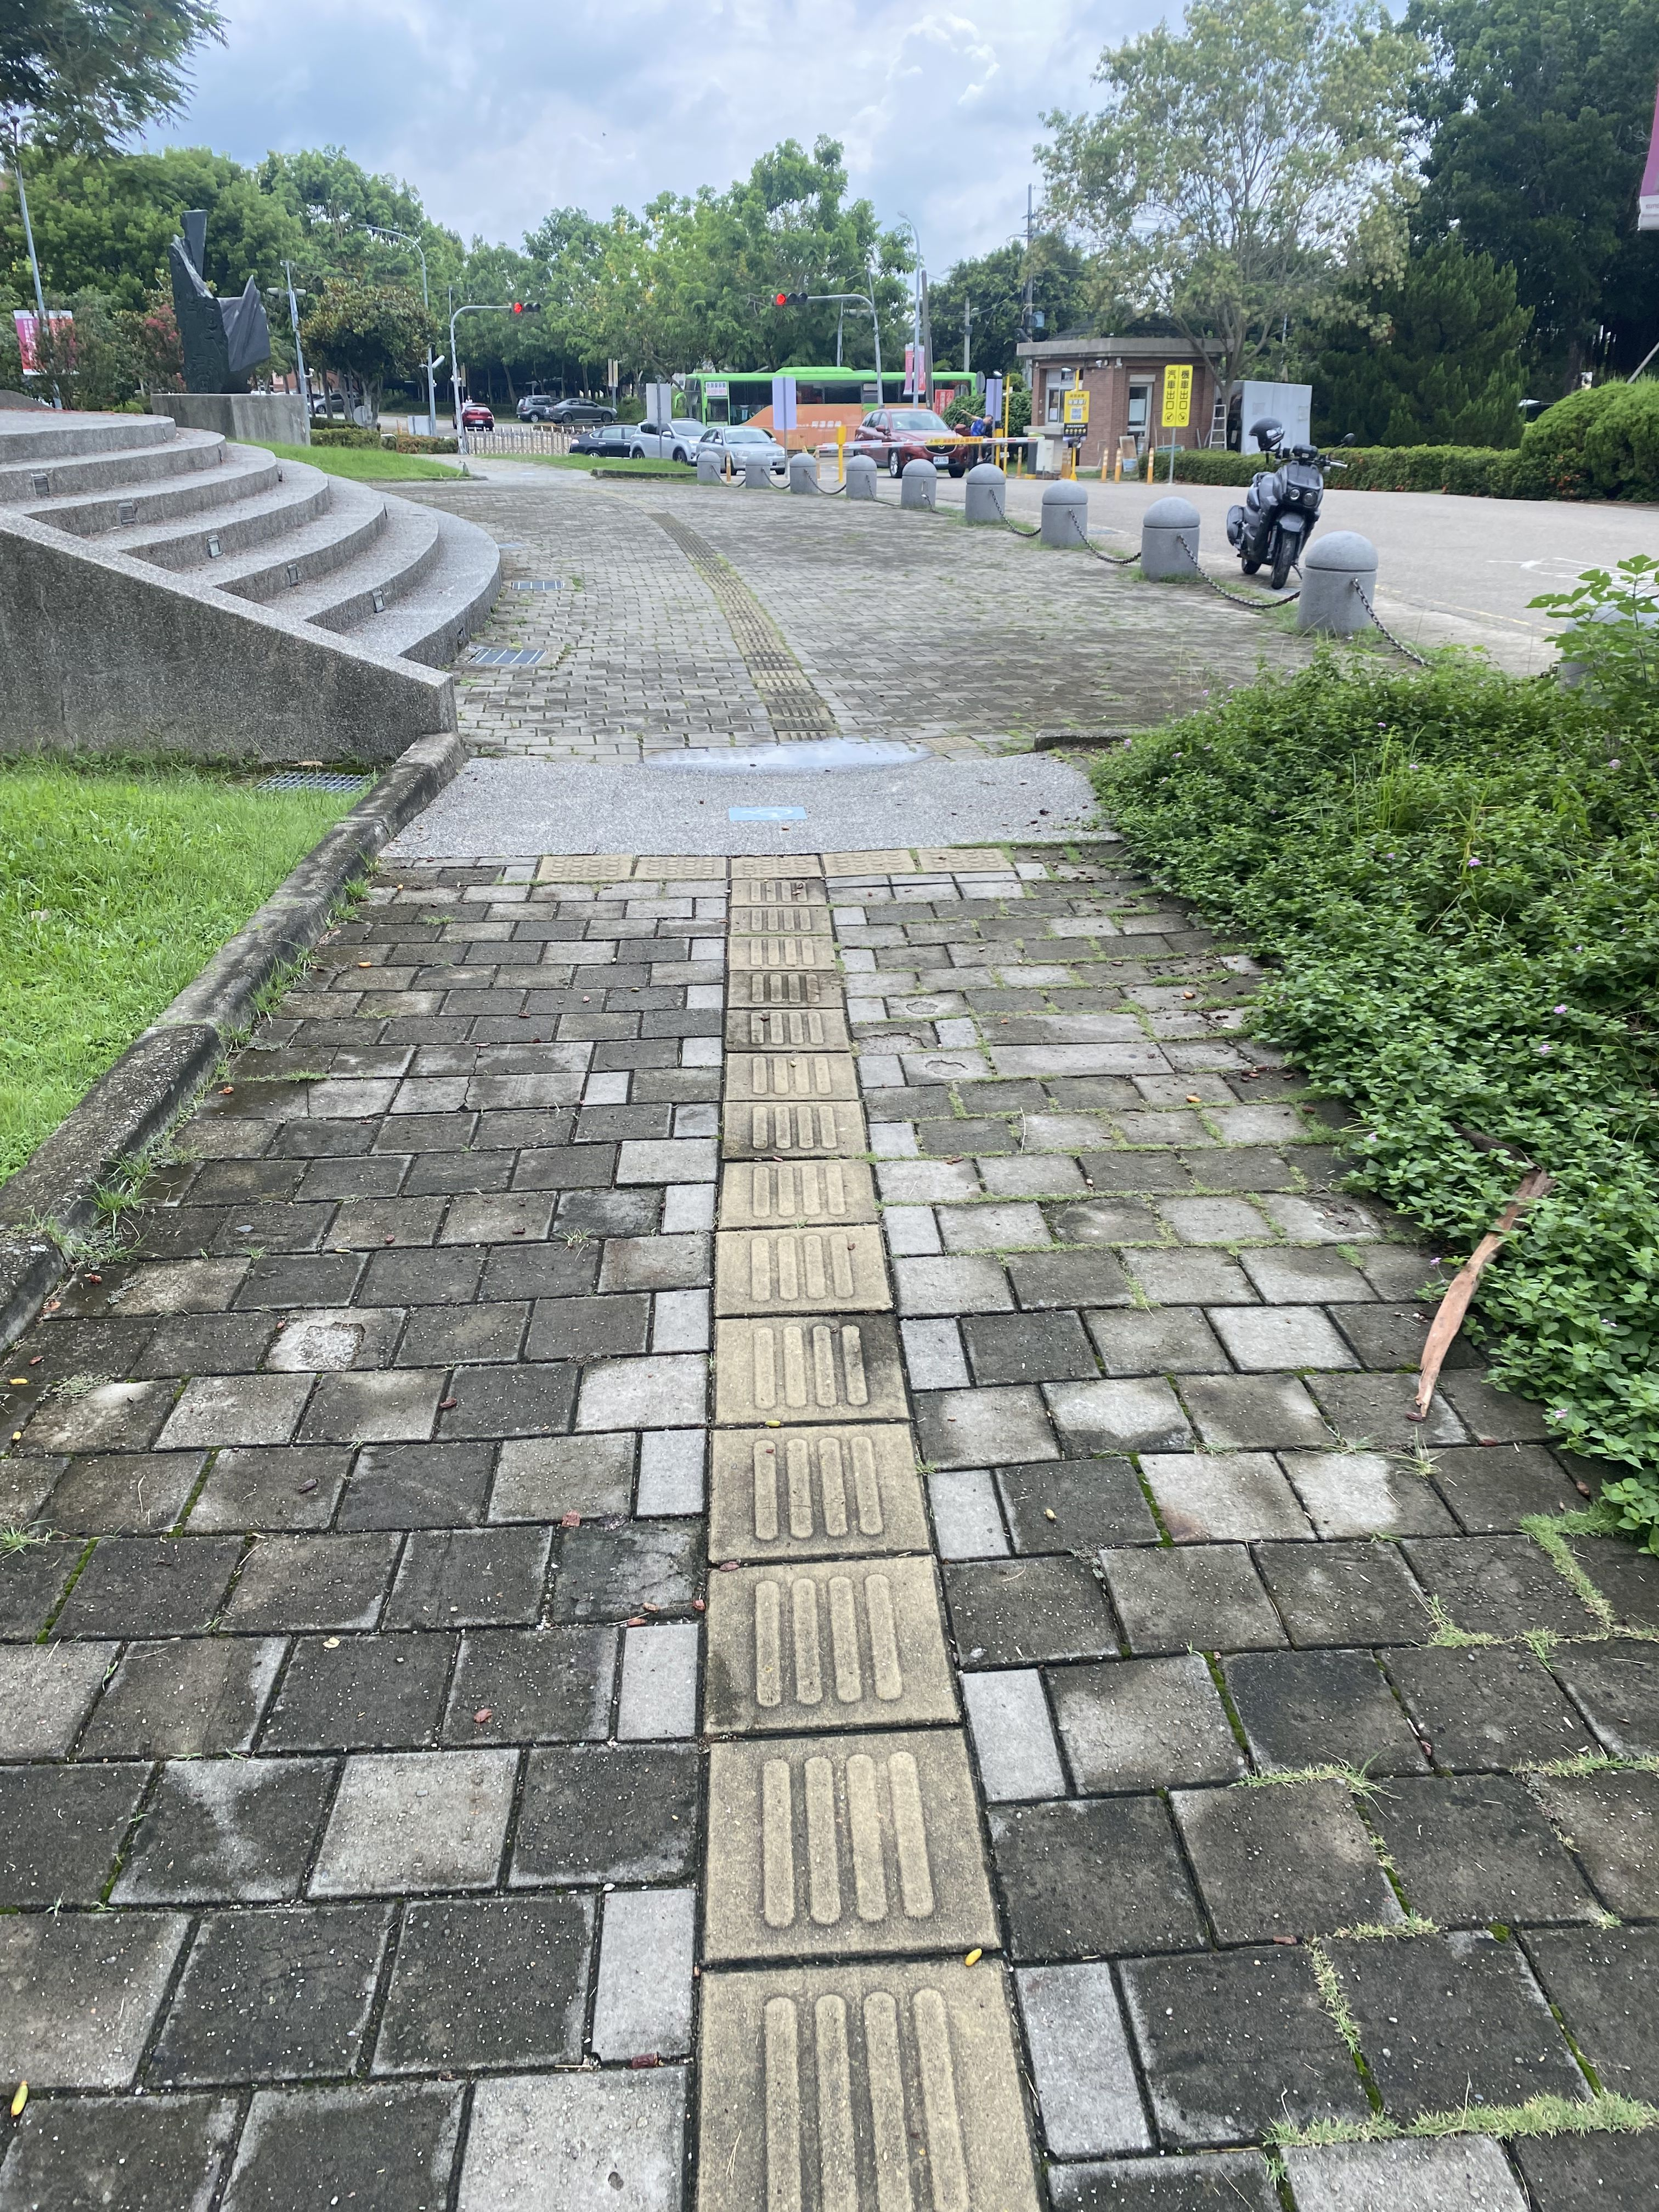0: (12, 772, 1659, 2212)
sidewalk: (368, 449, 1378, 977)
